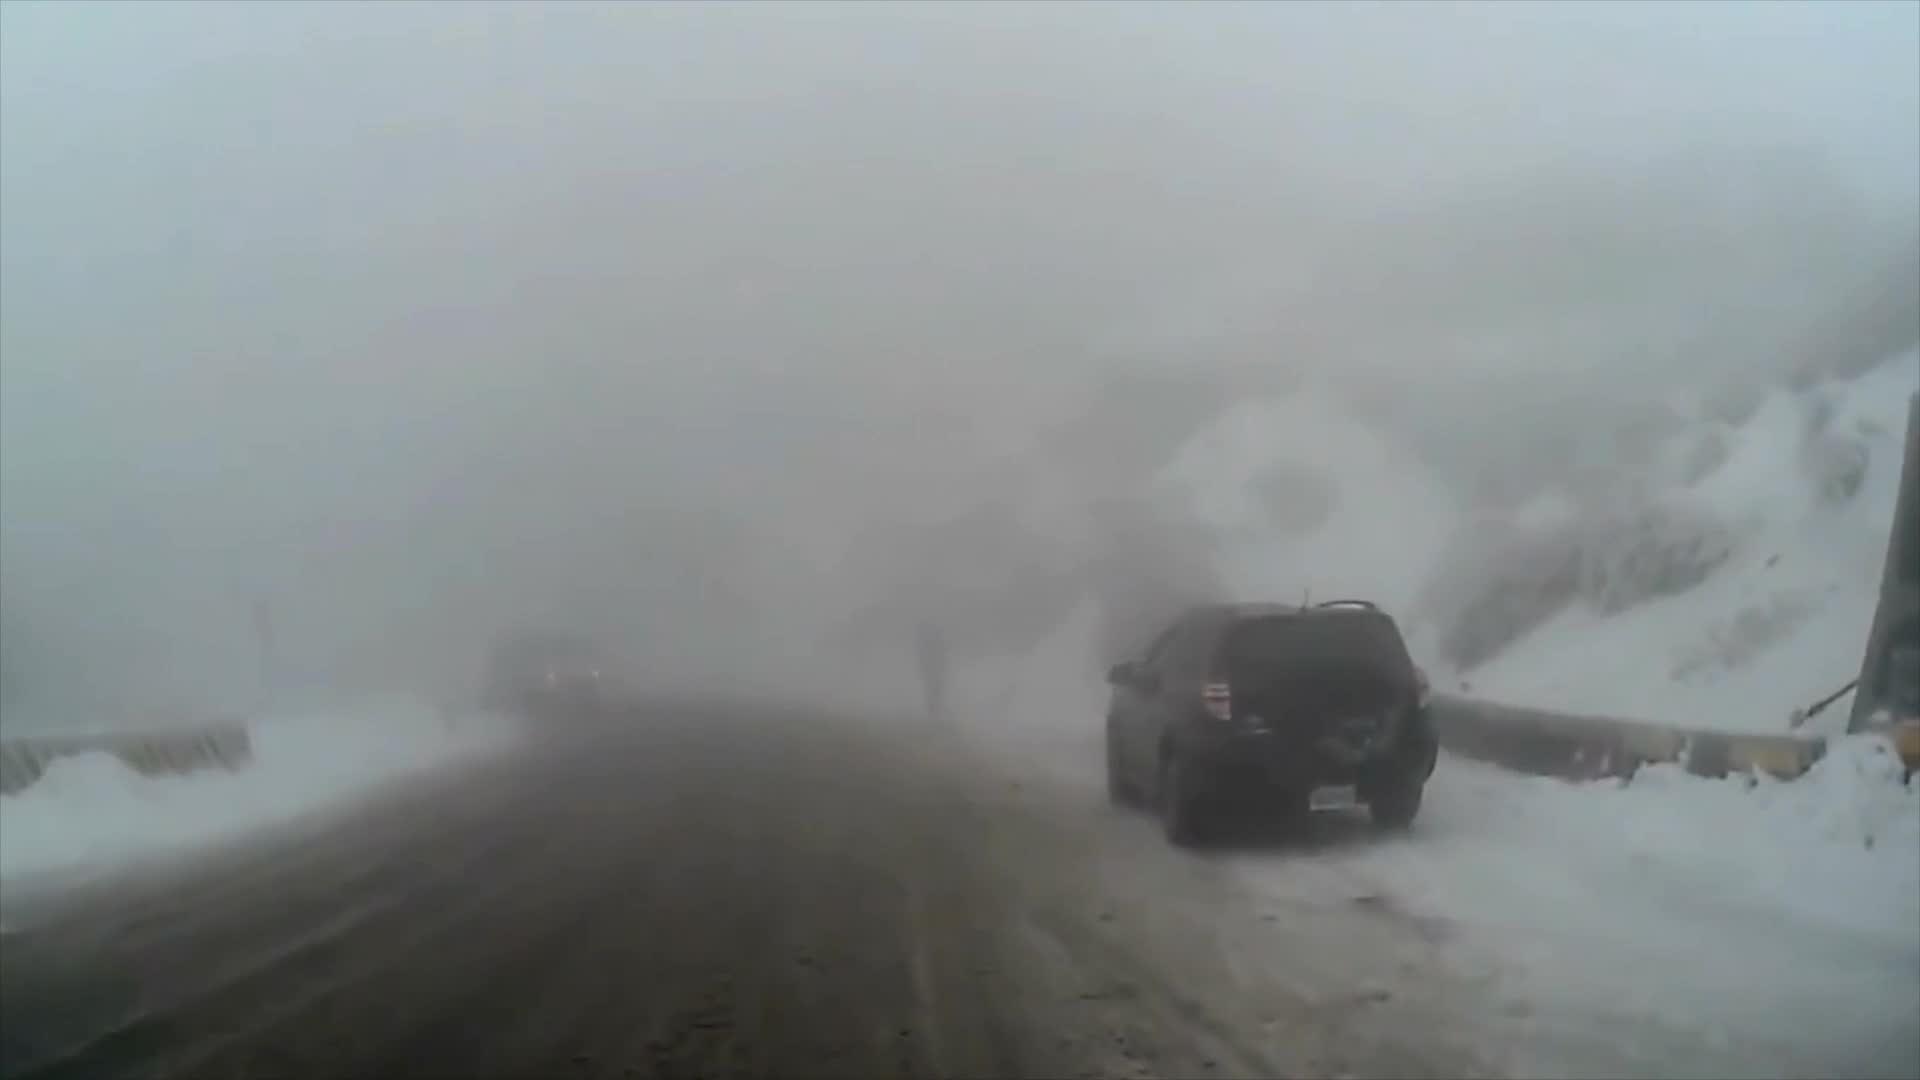vehicle: (1100, 597, 1439, 851)
